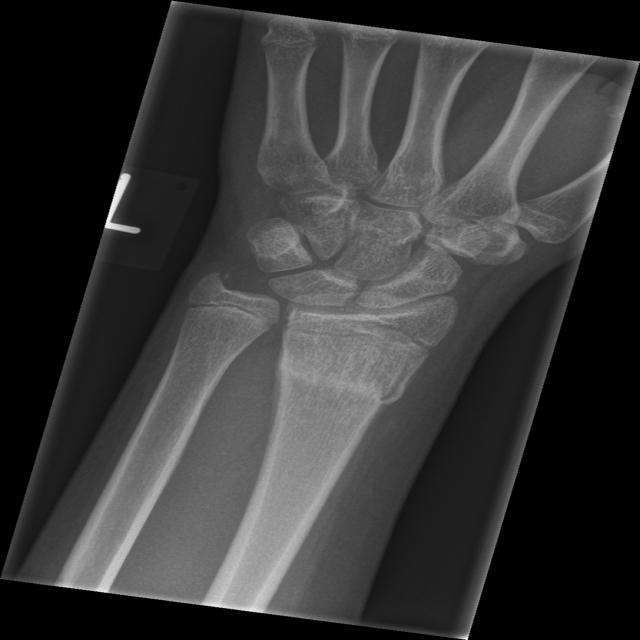radius fracture: (256, 338, 444, 457)
